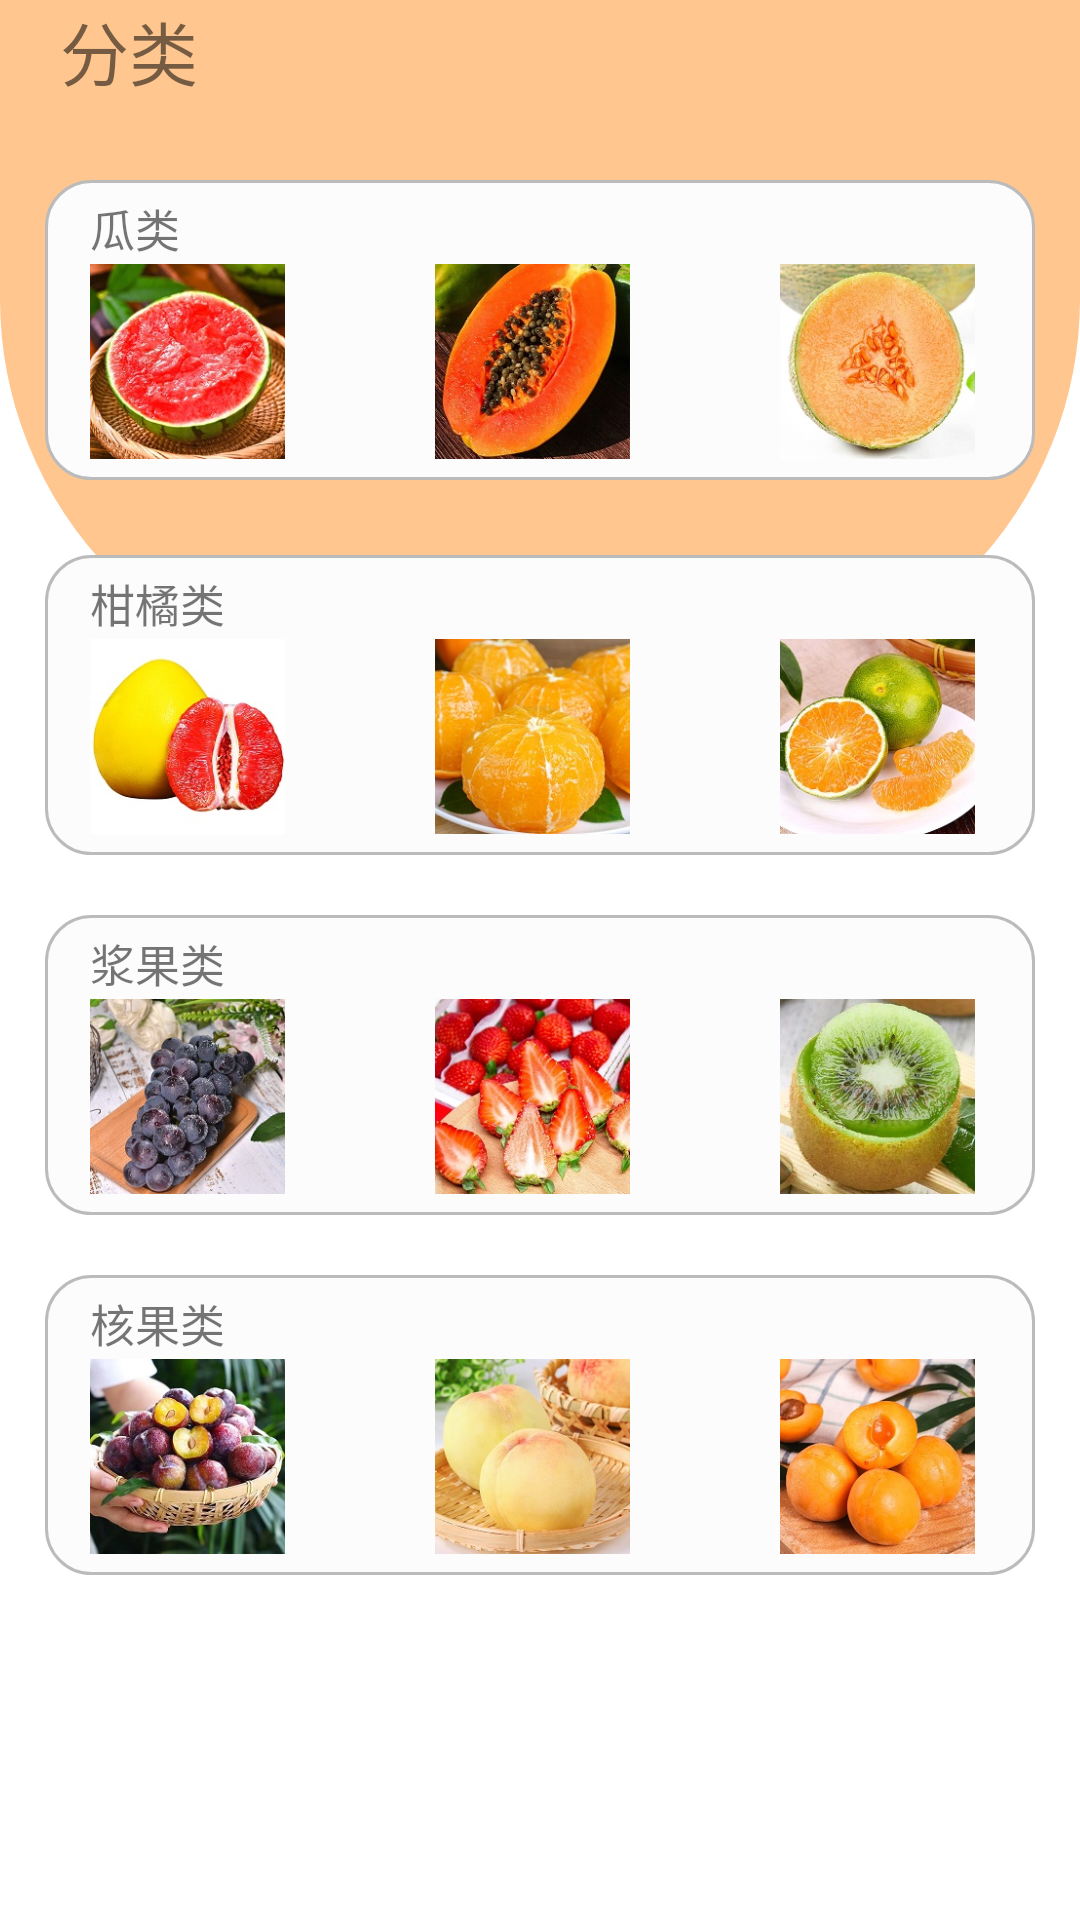

Where icons sit on this 1080px x 1920px app screen, as [left=x1, top=y1, right=x2, bottom=y2]:
caomei: [left=435, top=999, right=630, bottom=1194]
lizi: [left=90, top=1359, right=285, bottom=1554]
mihoutao: [left=780, top=999, right=975, bottom=1194]
mugua: [left=435, top=264, right=630, bottom=459]
putao: [left=90, top=999, right=285, bottom=1194]
taozi: [left=435, top=1359, right=630, bottom=1554]
xianggua: [left=780, top=264, right=975, bottom=459]
xigua: [left=90, top=264, right=285, bottom=459]
xingzi: [left=780, top=1359, right=975, bottom=1554]
xiyou: [left=92, top=658, right=284, bottom=812]
